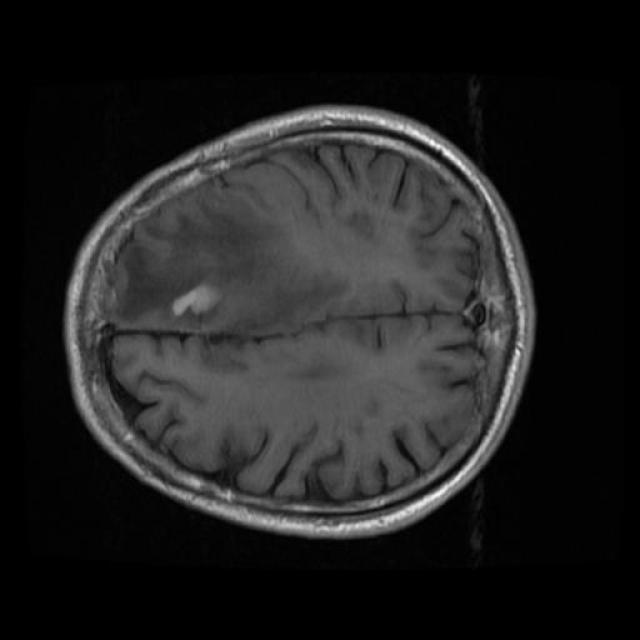Glioma: (137, 265, 221, 317)
